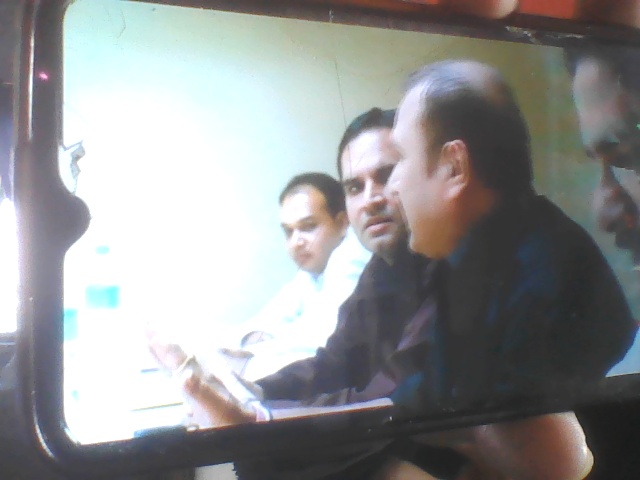fake: (343, 75, 481, 270)
